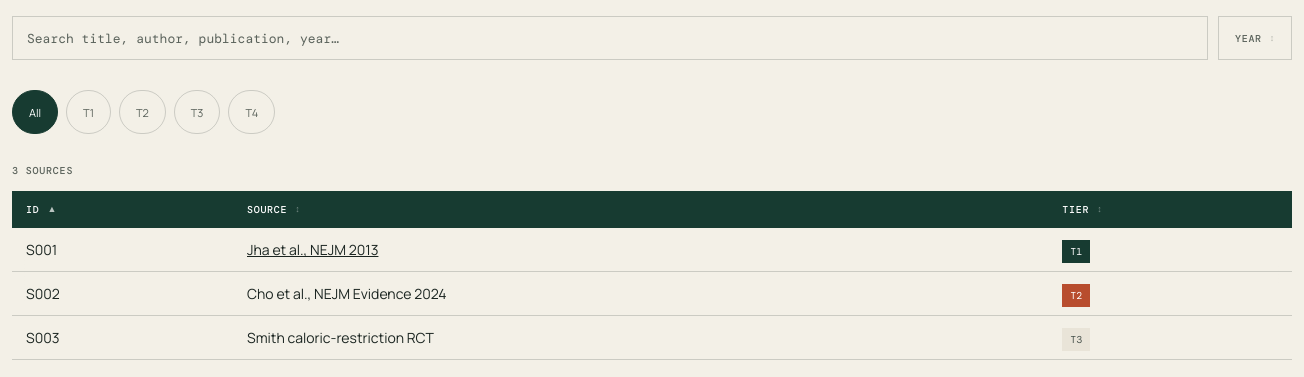
Test case: SourcesTable › filters by tier
This screenshot has width=1304, height=377.
Click the button "T1". click: x=89, y=112
box: [66,90,111,134]
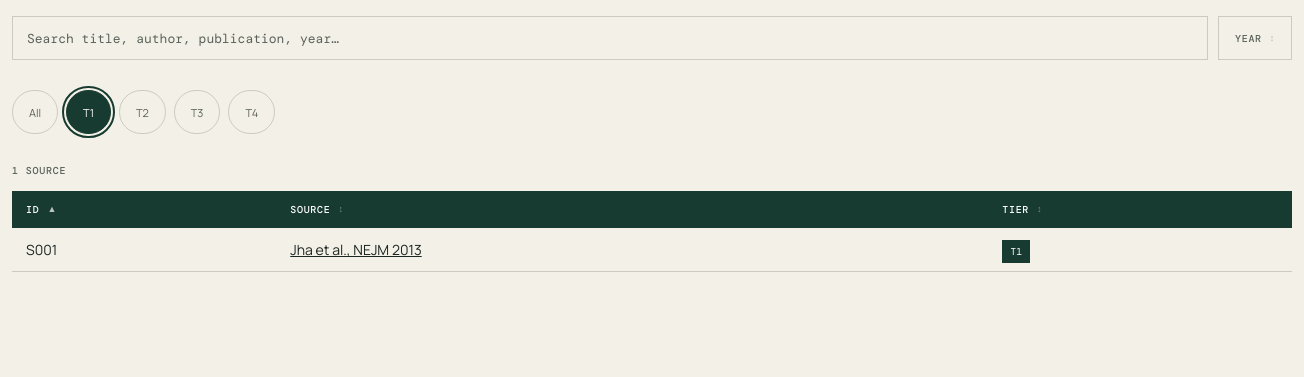
expect the link "Jha et al., NEJM 2013" is shown: met, box [290,240,422,259]
expect the text "Cho et al., NEJM Evidence 2024" is gone: met
